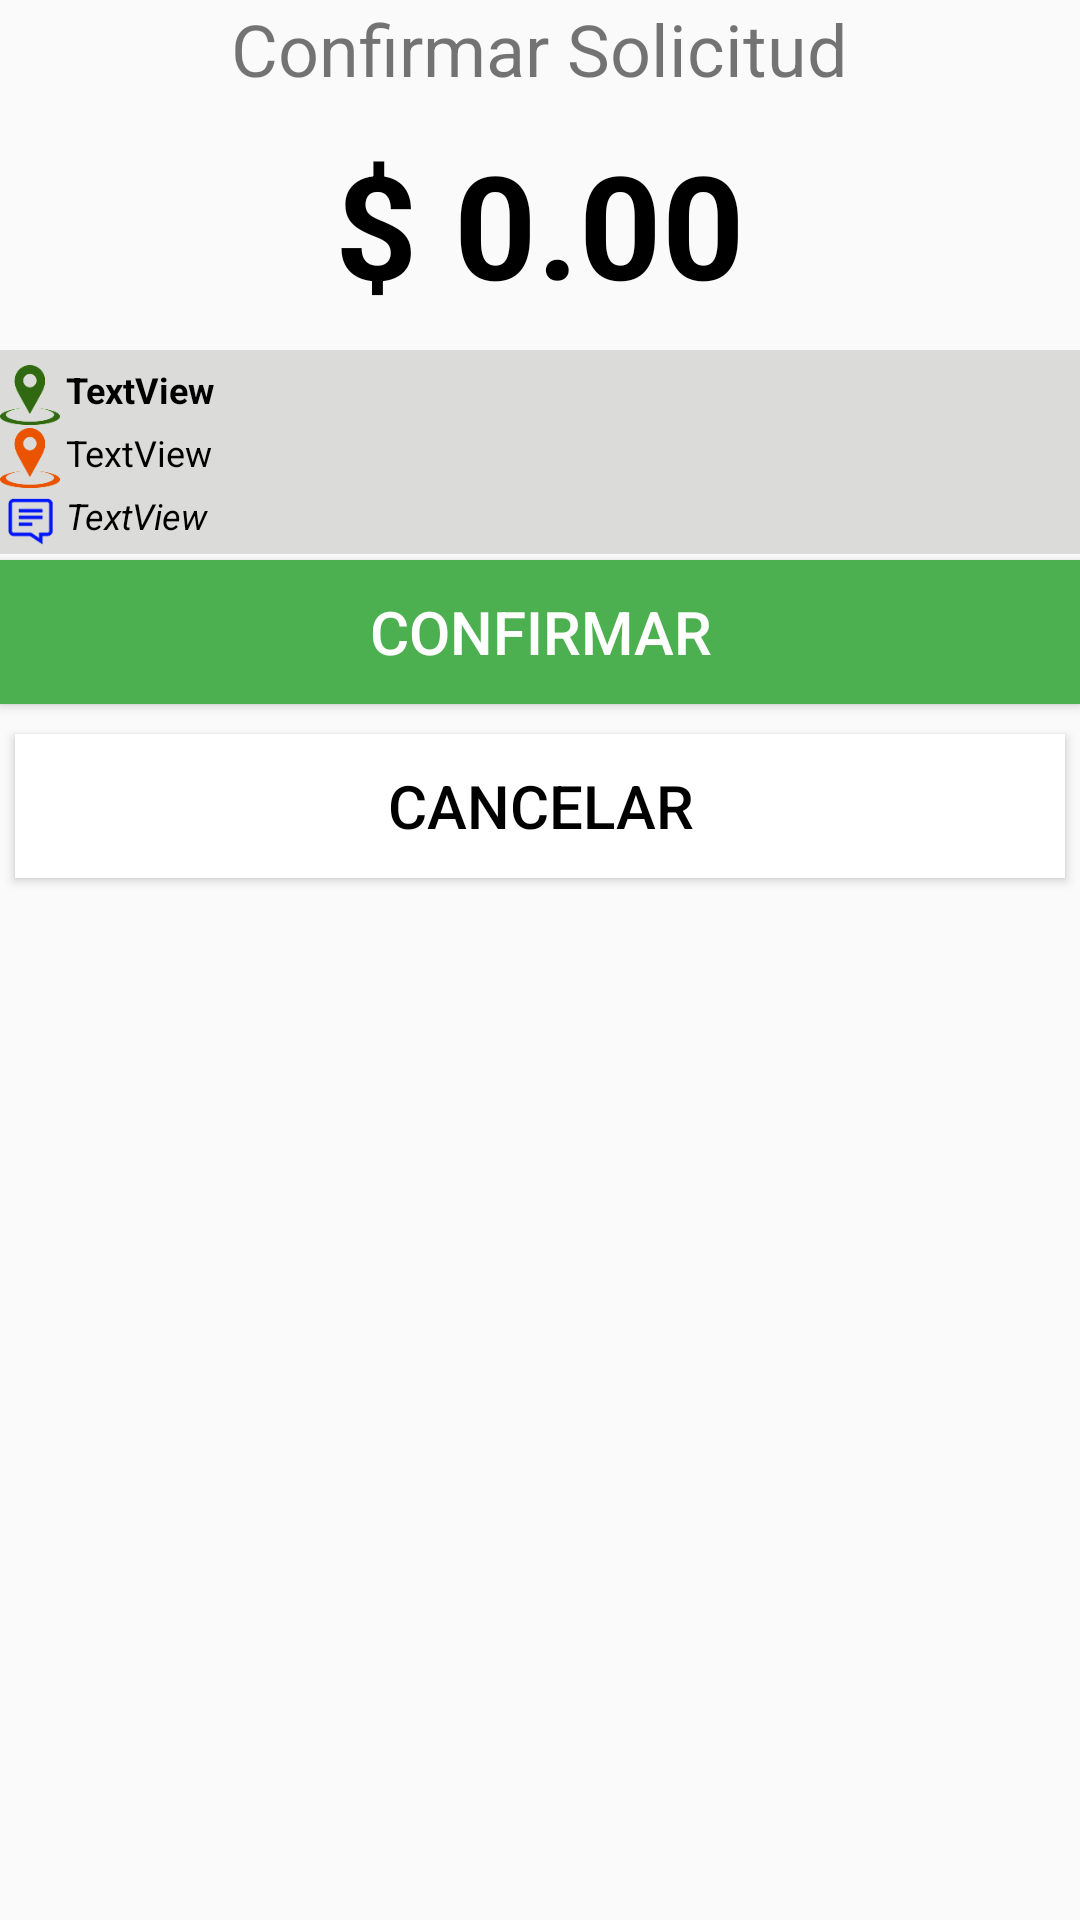

Where to tap for icons on this 1080×1920 app screen, as point (x, y):
globo: point (30, 521)
ubicacion: point (30, 395), point (30, 458)
